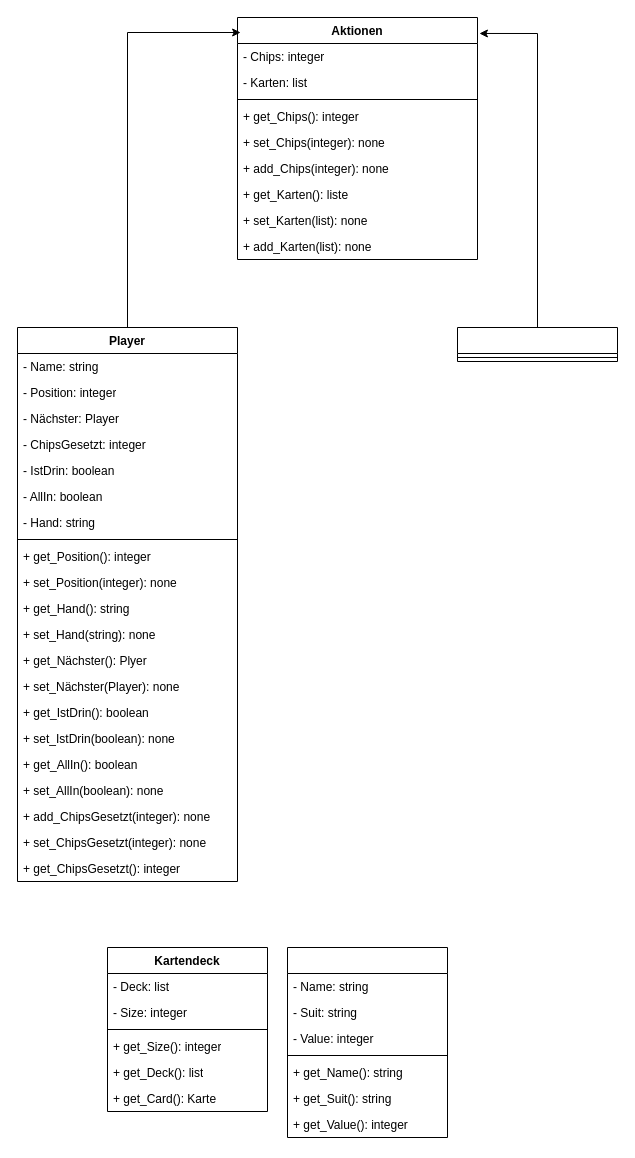
This 635x1158 diagram has some shape labels left out. The shapes that lost their labels are listed below. From the top down, each one's box as (x1, y1, x2, y2) in pixels, then its label:
(456, 326, 618, 362): Mitte
(286, 946, 448, 1138): Karte
